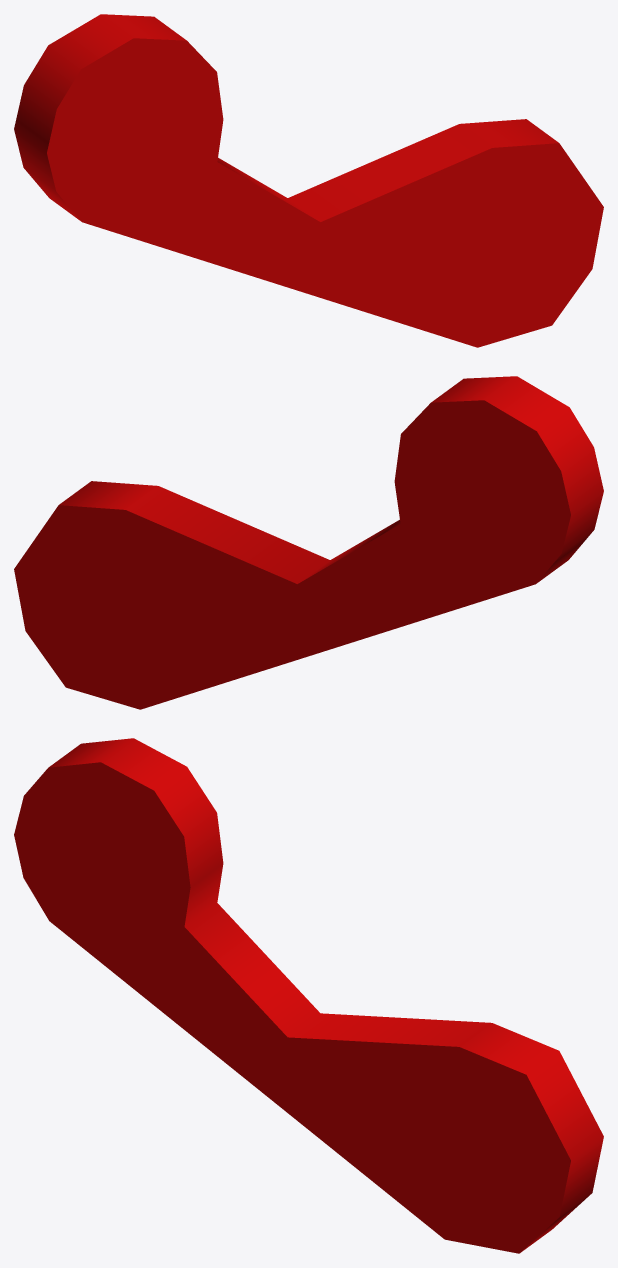
Rendered from rod_collision.dae.
3 views of the same model, one above another, from view 1: azimuth 30°, elevation 25°; view 2: azimuth 150°, elevation 25°; view 3: azimuth 330°, elevation 25° (orthographic).
Parts seen in each view (by area): view 1: rod_collision; view 2: rod_collision; view 3: rod_collision.
Part boxes in pixels (x1,y1,x2,y2): rod_collision: (14,14,603,347); rod_collision: (14,376,603,709); rod_collision: (14,738,603,1253).
Size of the model in its own units: 0.0643 by 0.00657 by 0.0434.
